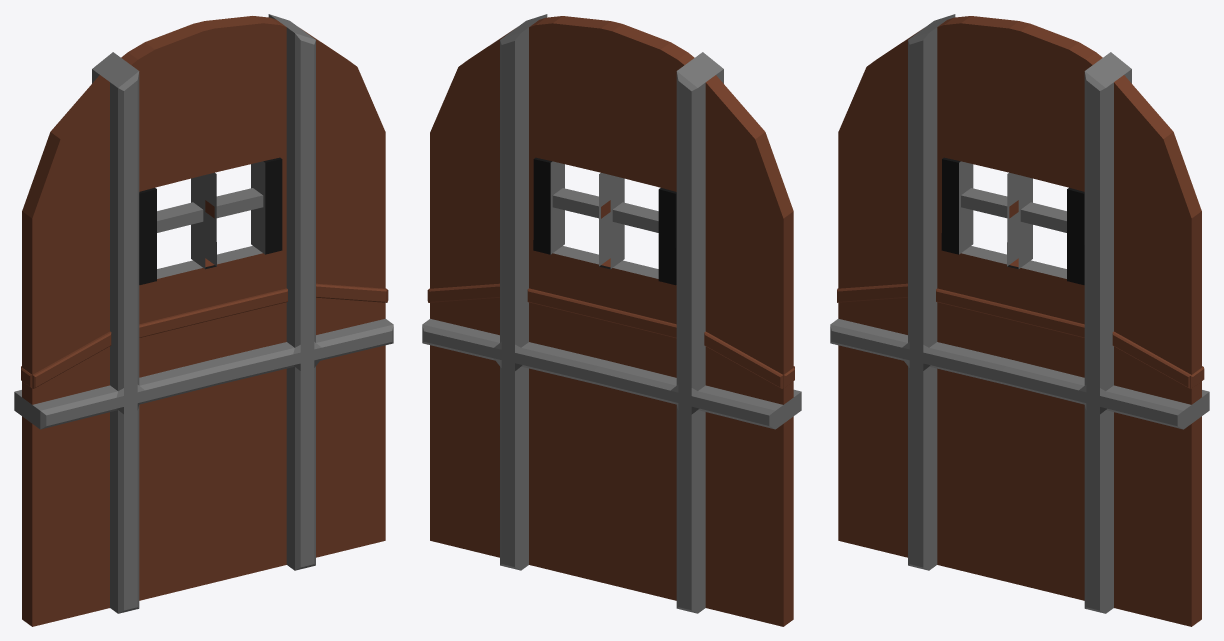
The model's file is Dungeon_SolidWood_Door.glb.
3 renders of one model, left to right at view 1: azimuth 30°, elevation 25°; view 2: azimuth 150°, elevation 25°; view 3: azimuth 330°, elevation 25°, orthographic.
Parts seen in each view (by area): view 1: SolidDoor; view 2: SolidDoor; view 3: SolidDoor.
Part boxes in pixels (x1,y1,x2,y2): SolidDoor: (14,14,393,626); SolidDoor: (422,14,801,626); SolidDoor: (830,14,1209,626).
Bounding box in the file's own units: 2.02 × 3 × 0.3.
